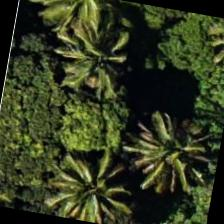Kelapa_Sawit: (39, 0, 144, 103), (125, 117, 222, 221), (21, 145, 123, 223), (27, 0, 125, 47)
